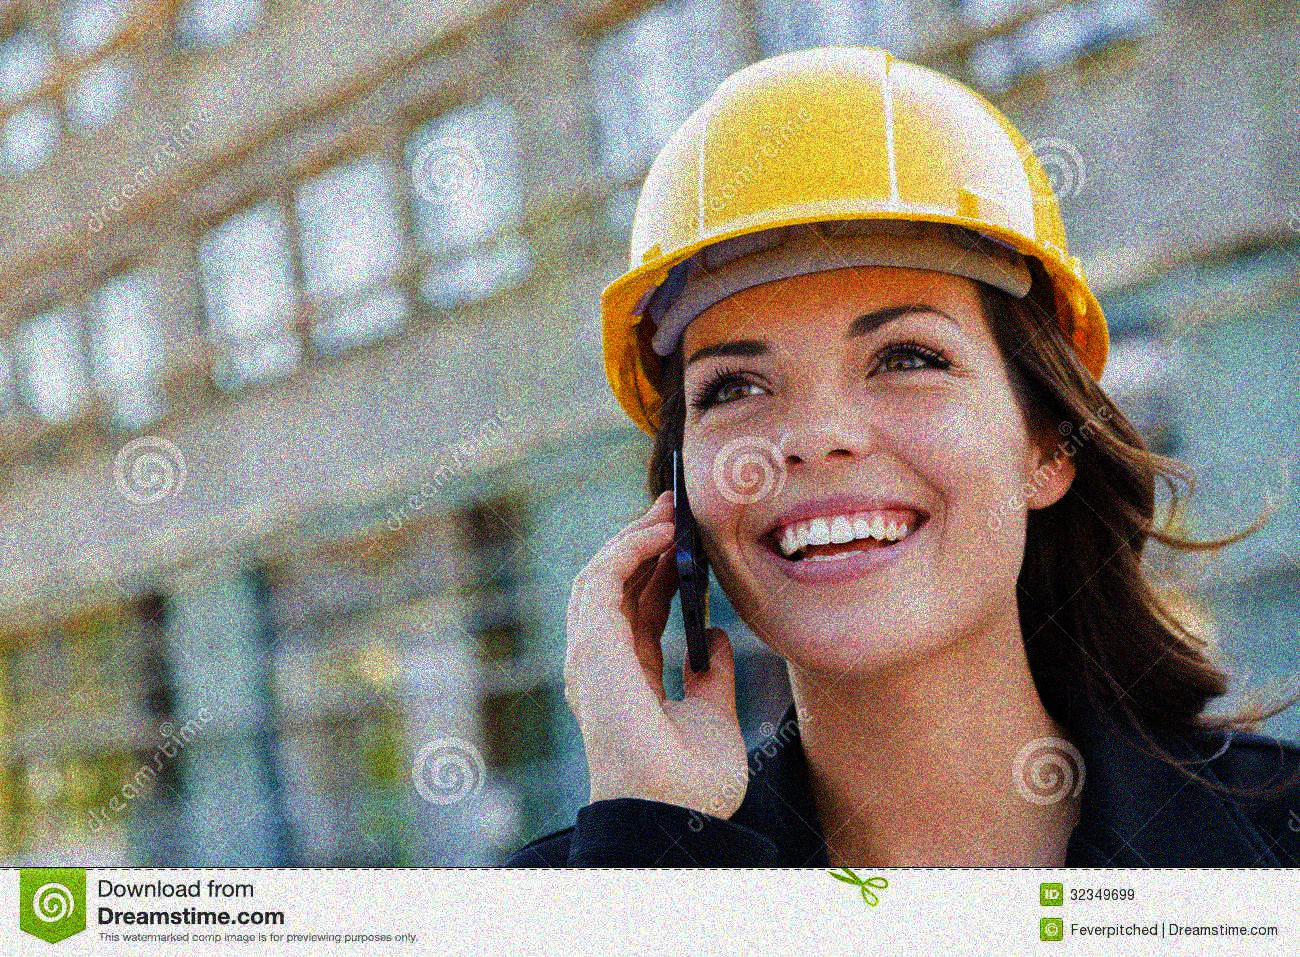helmet: (601, 40, 1119, 686)
